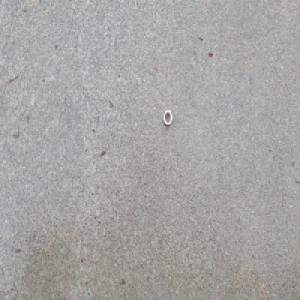Nut: (163, 108, 173, 126)
